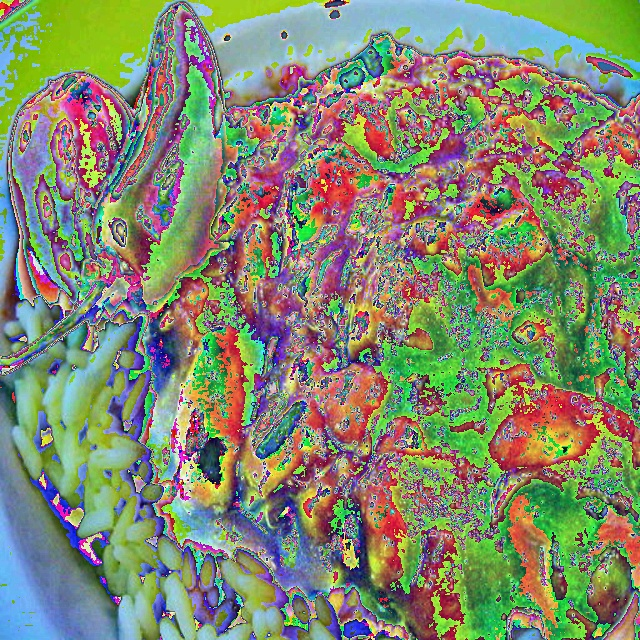background: (0, 2, 640, 639)
